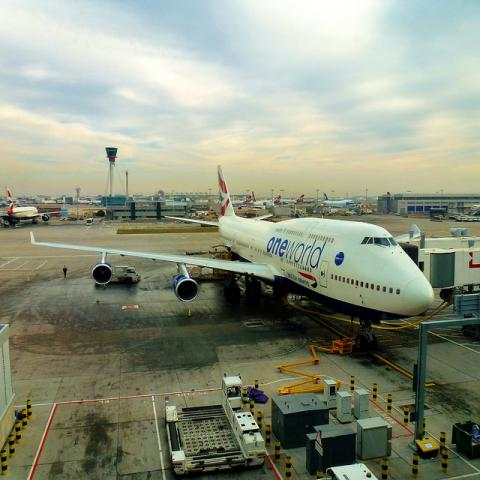truck: (114, 265, 142, 282)
